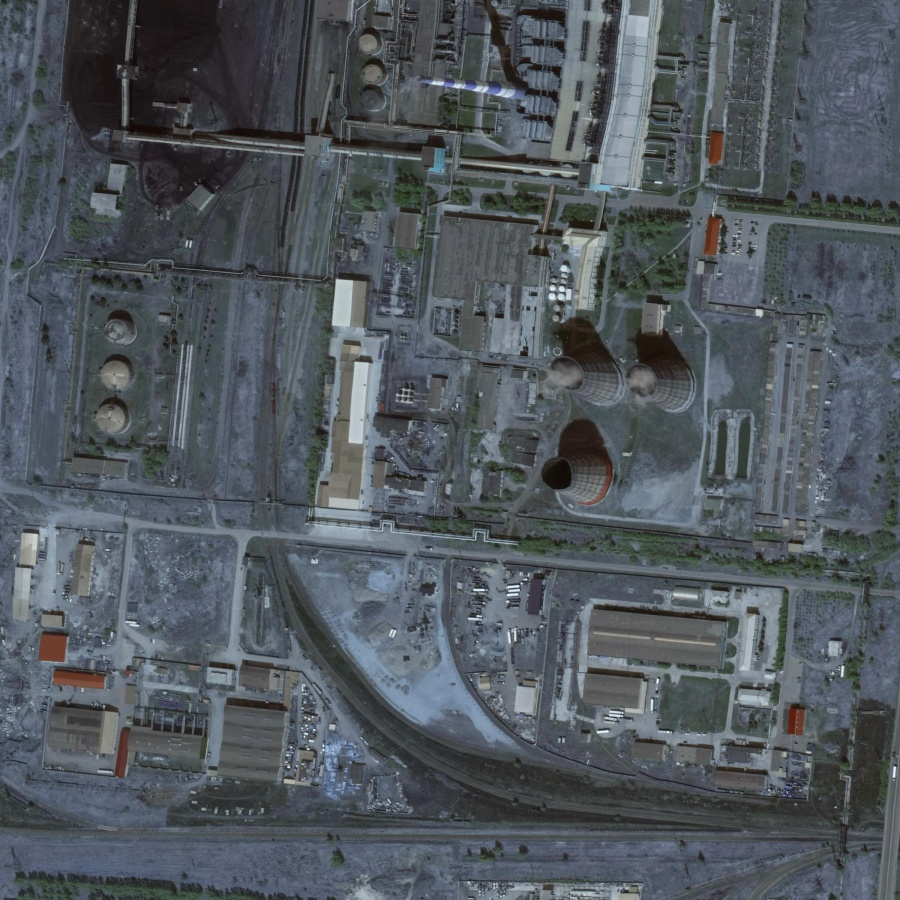PowerPlant: (533, 288, 722, 543), (55, 252, 203, 494)
